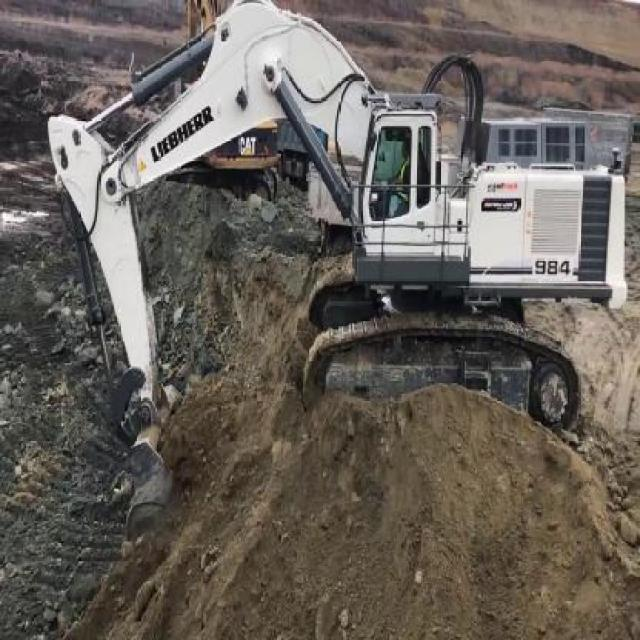Excavator: (47, 0, 631, 543), (182, 0, 281, 202)
